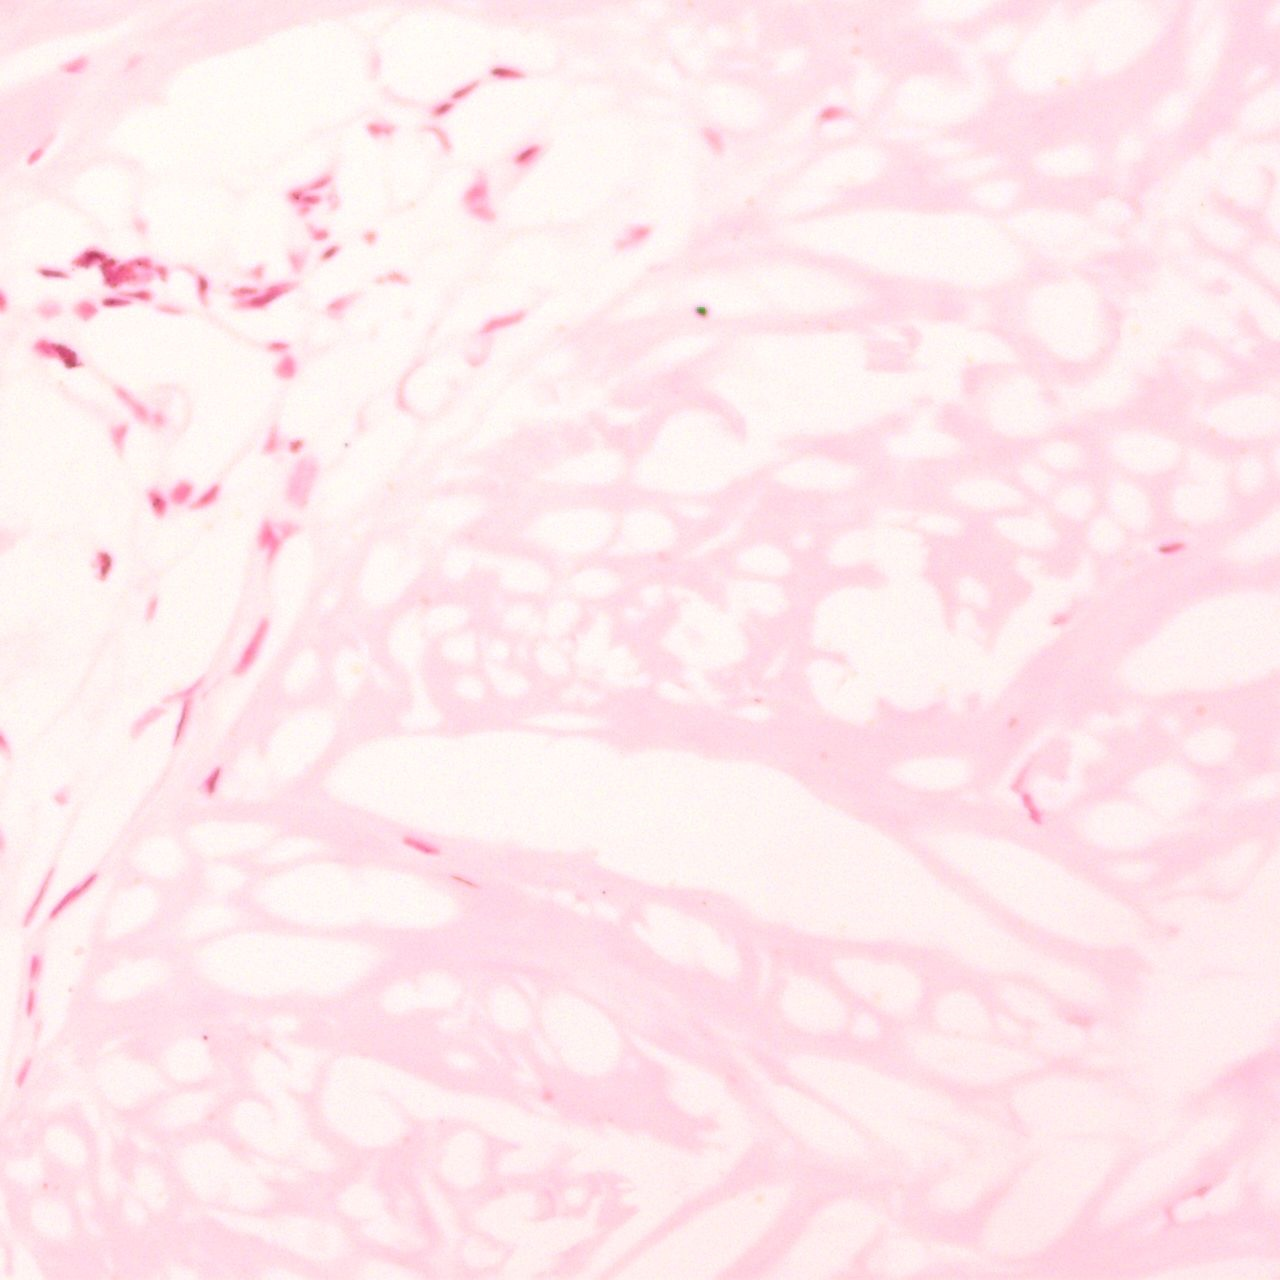dust: (694, 304, 707, 316), (342, 440, 350, 449), (202, 1034, 207, 1041)
nucleus-AC: (91, 234, 159, 295), (29, 328, 90, 380), (232, 612, 275, 680), (45, 869, 100, 921), (237, 274, 302, 316), (455, 173, 503, 231), (280, 450, 326, 510), (19, 865, 57, 928), (477, 302, 533, 339), (611, 215, 656, 259), (254, 518, 299, 564), (107, 382, 154, 425), (321, 282, 363, 324), (70, 237, 111, 277), (1014, 787, 1049, 829), (188, 481, 224, 517), (811, 98, 847, 131), (427, 122, 459, 156), (401, 832, 440, 860), (8, 1056, 38, 1092), (144, 488, 172, 523), (258, 423, 285, 459), (166, 477, 196, 508), (449, 76, 483, 102), (34, 297, 68, 322), (304, 170, 338, 195), (109, 421, 130, 458), (200, 764, 225, 796), (510, 144, 542, 168), (273, 353, 297, 381), (489, 64, 526, 81), (1155, 539, 1191, 556), (156, 300, 188, 319), (23, 144, 47, 169), (62, 52, 88, 74), (123, 285, 154, 304), (76, 299, 98, 324), (316, 243, 341, 265), (365, 121, 395, 138), (27, 948, 42, 982), (97, 549, 111, 583), (433, 98, 454, 120), (305, 223, 328, 241), (196, 271, 209, 305), (38, 266, 68, 280), (263, 339, 291, 352), (154, 263, 171, 282), (101, 297, 132, 307), (25, 987, 35, 1017), (229, 286, 259, 295), (287, 438, 305, 454), (152, 411, 166, 429), (301, 195, 320, 205), (290, 189, 302, 202), (365, 230, 376, 244)
